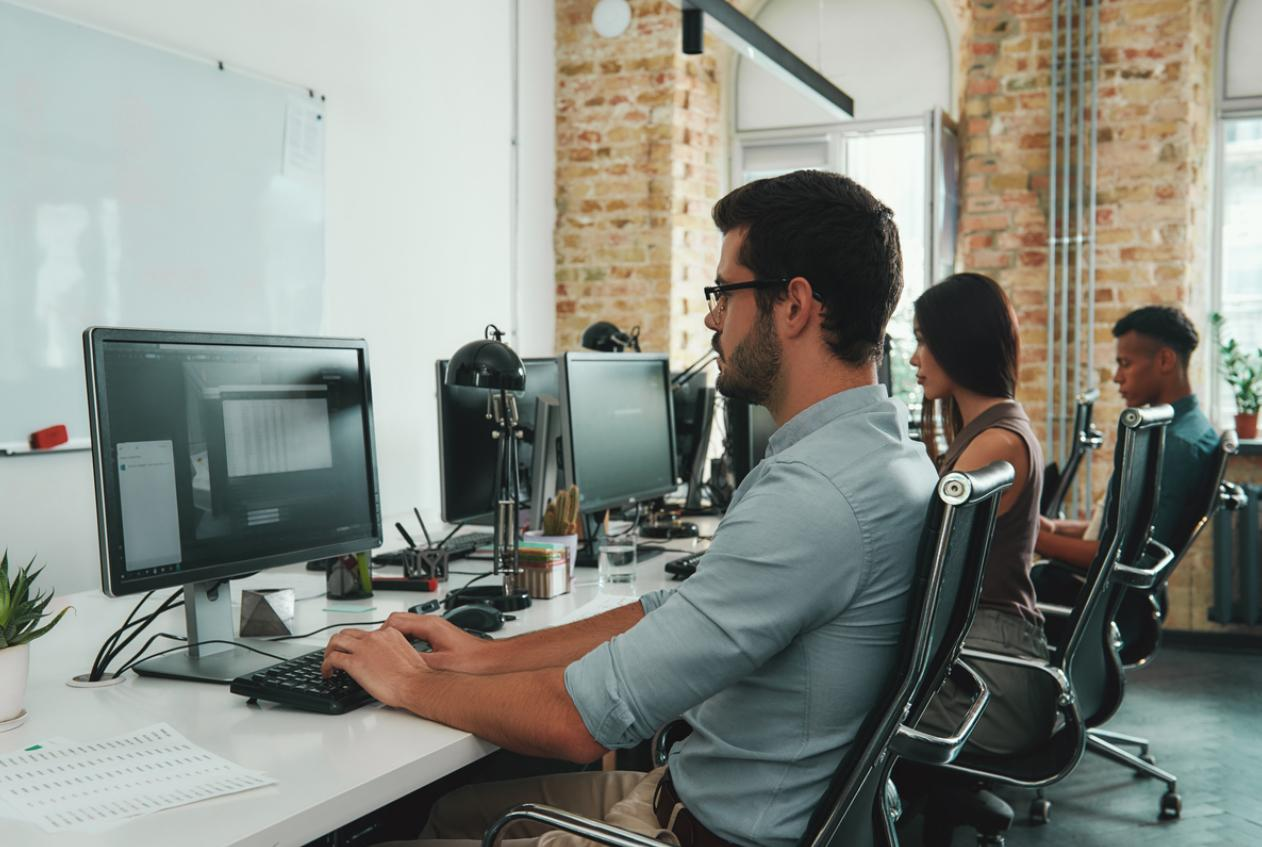Good Sitting Posture: (332, 185, 975, 778)
